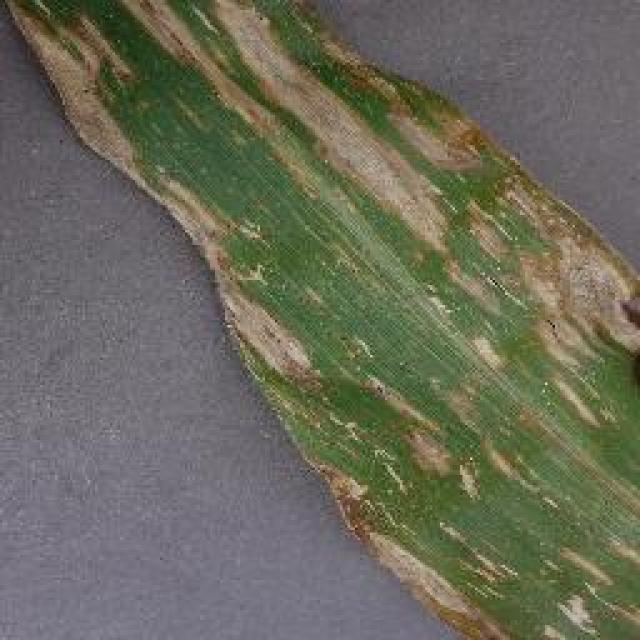Corn___Cercospora_leaf_spot Gray_leaf_spot: (7, 2, 640, 639)
